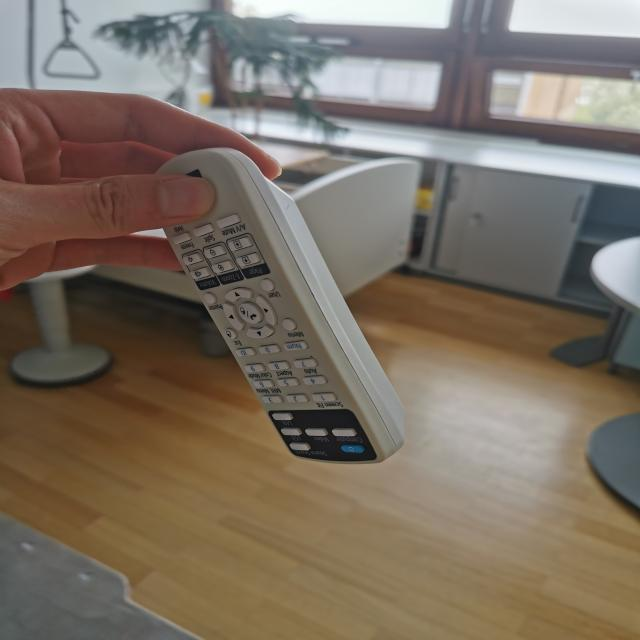remote: (141, 149, 419, 472)
